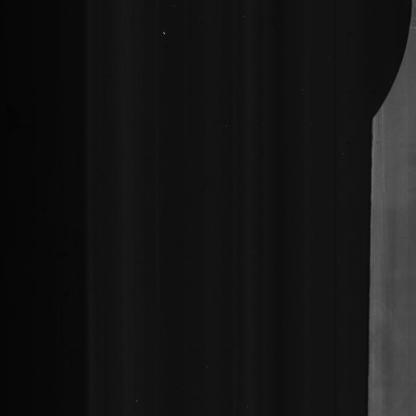crescent_gap: (368, 0, 416, 135)
